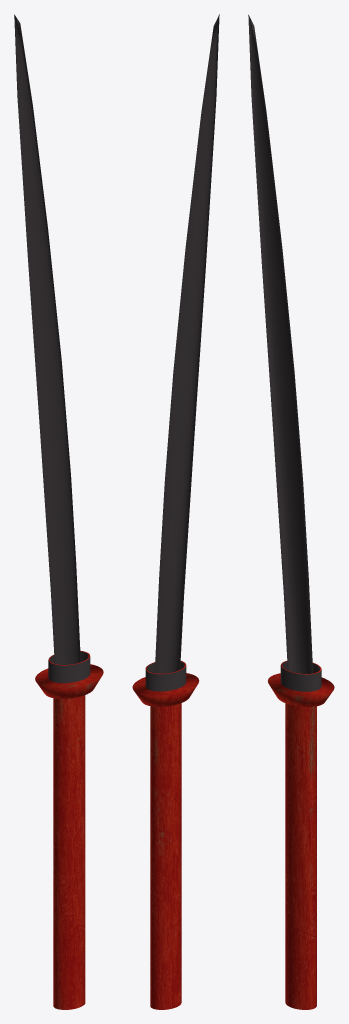
Rendered from Katana.fbx.
3 views of the same model, side by side, from view 1: azimuth 30°, elevation 25°; view 2: azimuth 210°, elevation 25°; view 3: azimuth 330°, elevation 25° (orthographic). The views are drawn at different scales.
Parts seen in each view (by area): view 1: Cylindre.002; view 2: Cylindre.002; view 3: Cylindre.002.
Boxes of the visible parts, x1=… form: Cylindre.002: x1=14, y1=14, x2=103, y2=1009; Cylindre.002: x1=132, y1=14, x2=219, y2=1009; Cylindre.002: x1=248, y1=14, x2=334, y2=1009.
Size of the model in its own units: 3.67 by 40.72 by 1.95.
